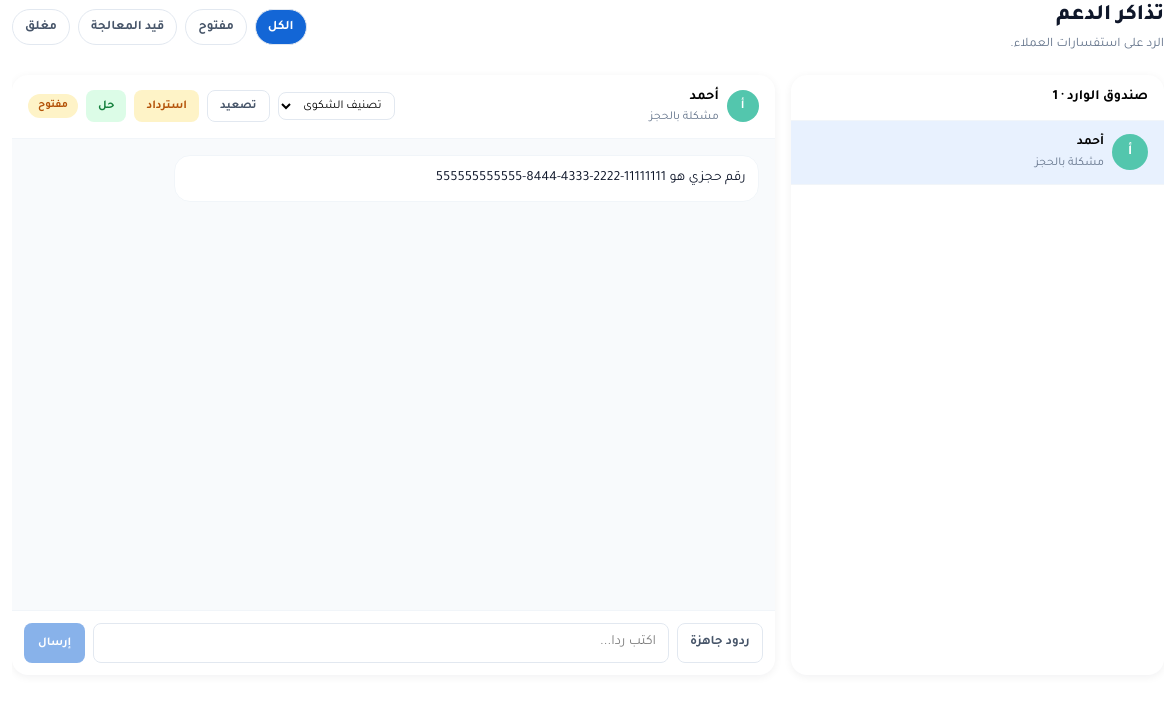
Test: Support page (refund booking-id auto-extract) › prefills bookingId from a UUID in the messages and shows a verify warning
Expected: the text "أحمد" below "صندوق الوارد ·" is shown, [1077,136,1104,148]
Click the button "استرداد". click: (167, 106)
box: [134,90,199,122]
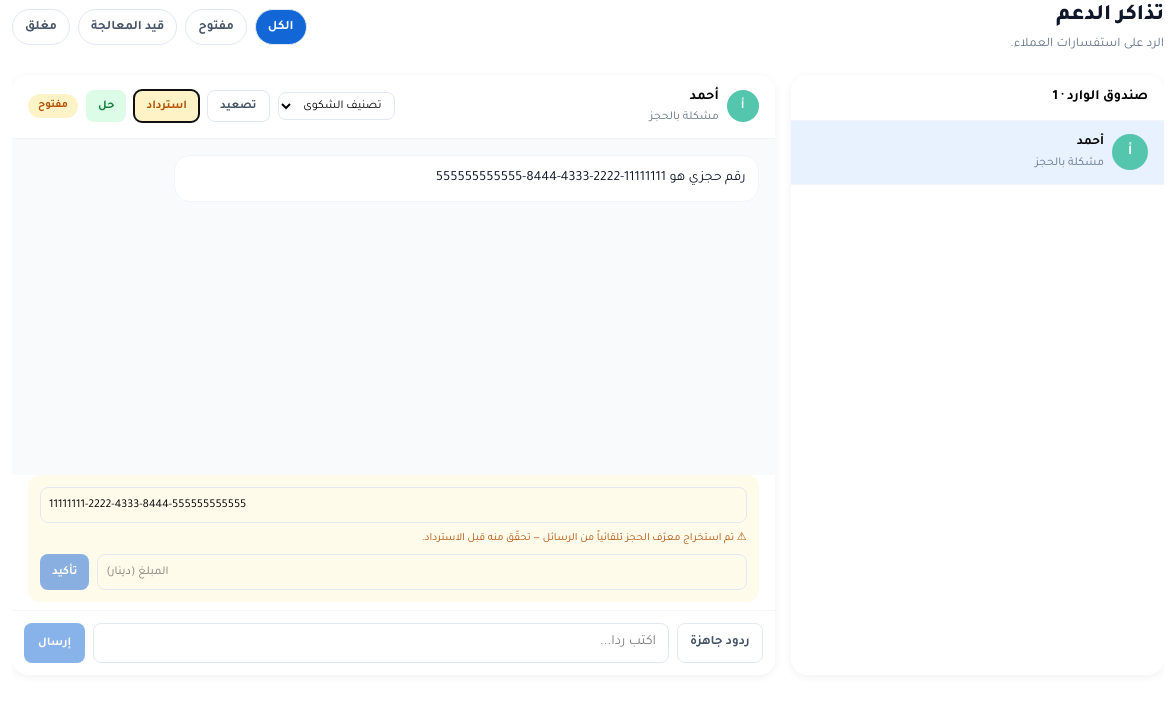
Expected: the field with placeholder "معرّف الحجز" holds "11111111-2222-4333-8444-555555555555", [40,487,747,523]
Expected: the text with test id "refund-autofill-warning" is shown, [422,533,747,544]
